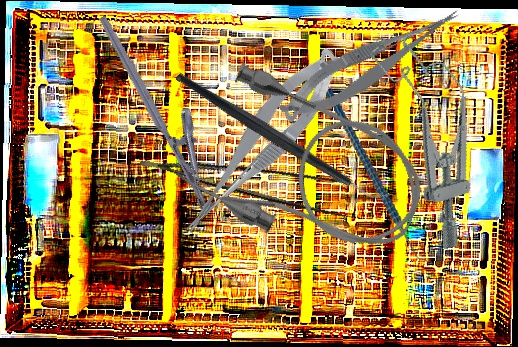Cannula: (169, 54, 443, 286)
Chopper: (175, 16, 393, 256), (324, 77, 435, 276)
Micro Scissor: (161, 42, 360, 240), (267, 0, 475, 131)
Needle Holder: (97, 0, 237, 216)
Speculum: (366, 19, 505, 255)
Tissue Forceps: (139, 125, 364, 226)
